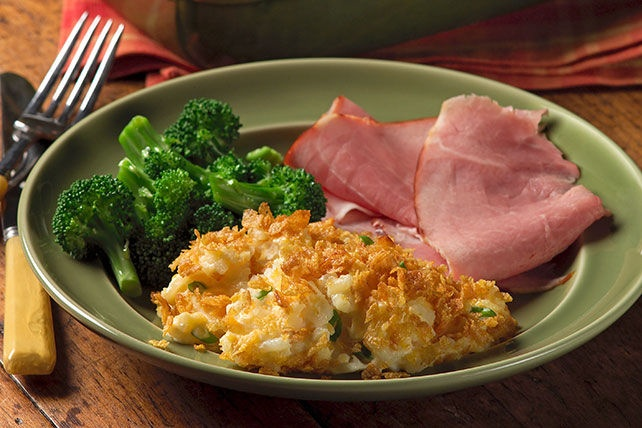background: (51, 60, 615, 253)
